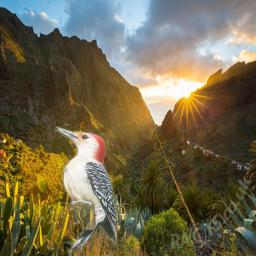Woodpecker: (52, 126, 117, 256)
